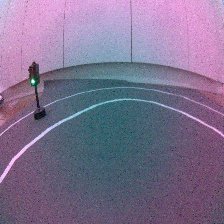green: (26, 59, 48, 126), (27, 60, 47, 121)
